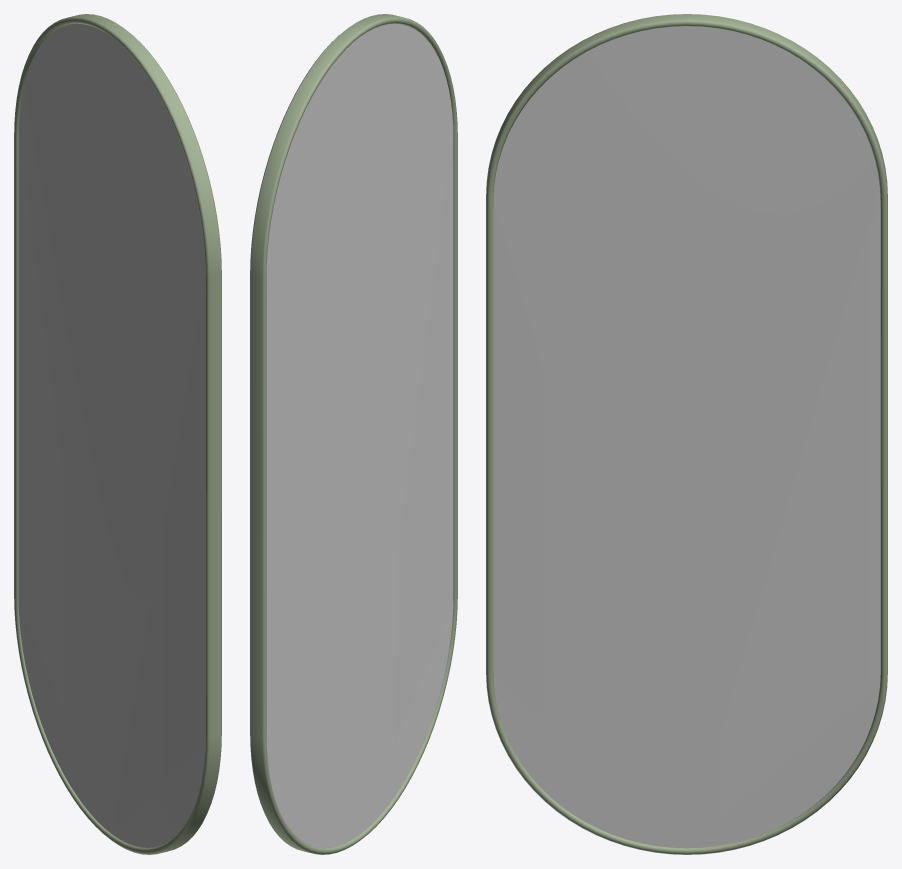
File: Mirror_v2.fbx
The picture shows the model from 3 angles, left to right: view 1: azimuth 30°, elevation 25°; view 2: azimuth 150°, elevation 25°; view 3: azimuth 270°, elevation 25°; orthographic projection. The views are drawn at different scales.
Visible parts, largest first — view 1: Cube.001; view 2: Cube.001; view 3: Cube.001.
Part boxes in pixels (x1,y1,x2,y2): Cube.001: (14,14,221,854); Cube.001: (250,14,457,854); Cube.001: (486,14,887,854).
Size of the model in its own units: 9.2 by 476 by 208.
